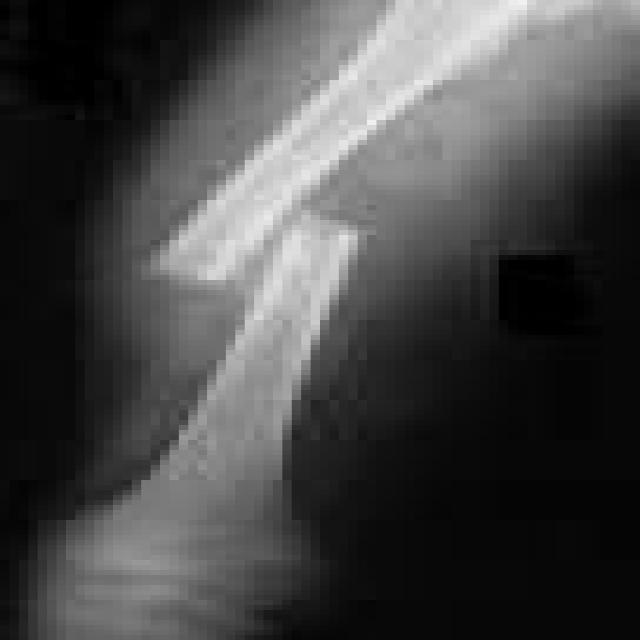Broken: (138, 18, 515, 286), (111, 211, 393, 516)
